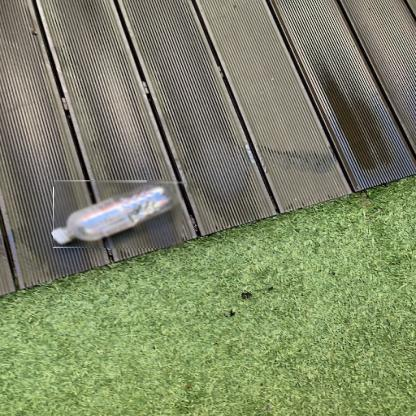plastic-bottles: (55, 182, 185, 250)
